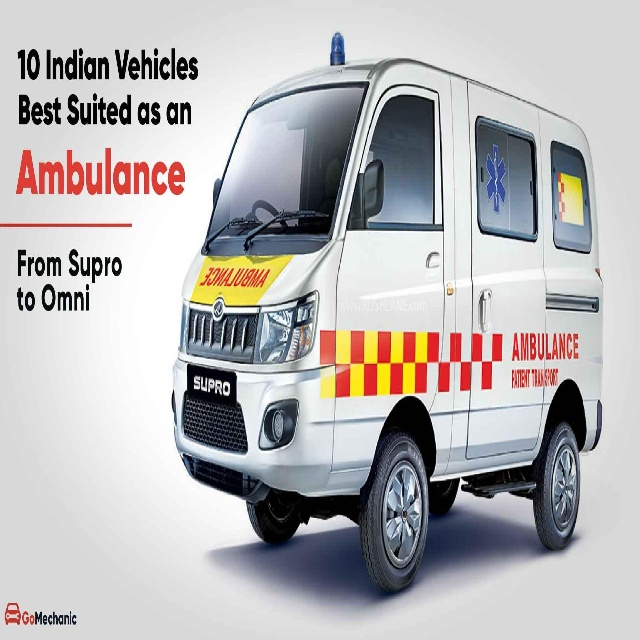Van: (171, 58, 603, 596)
